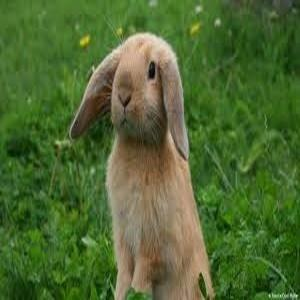rabbit: (69, 32, 212, 299)
